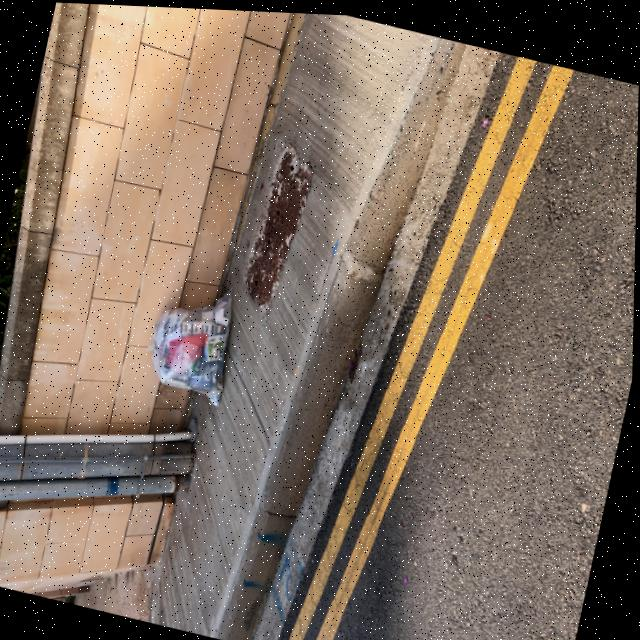Recycled Waste -Grey or Green Bag-: (140, 268, 248, 407)
